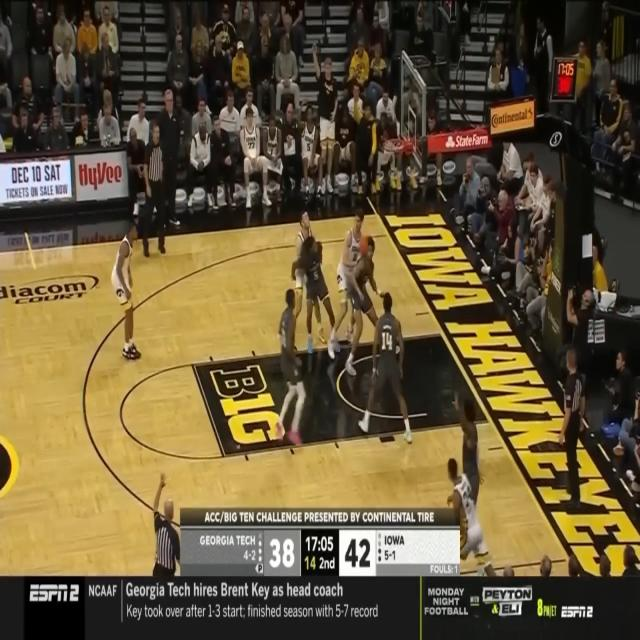Ball: (358, 238, 369, 257)
Clock: (551, 58, 578, 101)
Hoop: (382, 137, 405, 160)
Overlay: (0, 575, 640, 640), (180, 507, 460, 577)
Player: (440, 456, 504, 609), (358, 290, 413, 444), (343, 237, 402, 376), (288, 236, 342, 354), (452, 389, 486, 551), (286, 212, 327, 344), (274, 289, 306, 448), (111, 220, 142, 360)
Ref: (556, 346, 588, 508), (151, 470, 180, 631), (141, 120, 167, 256)
Scoreboard: (180, 530, 460, 576)
